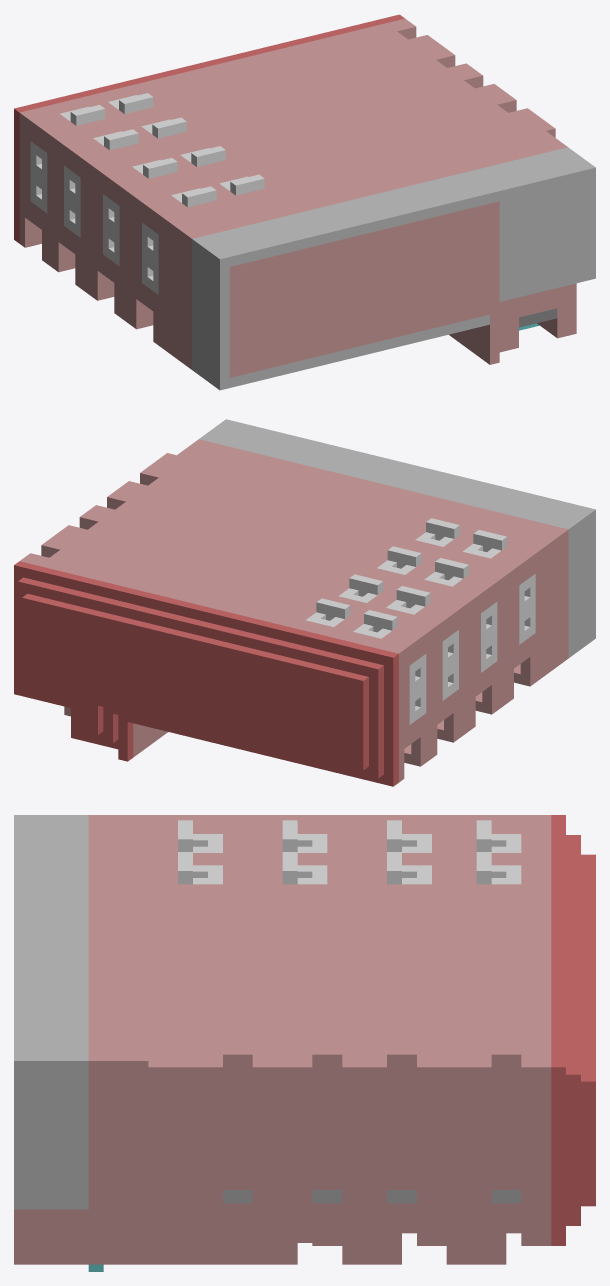
File: yoshida11.fbx
The picture shows the model from 3 angles, top to bottom: view 1: azimuth 30°, elevation 25°; view 2: azimuth 150°, elevation 25°; view 3: azimuth 270°, elevation 25°; orthographic projection. The views are drawn at different scales.
Parts seen in each view (by area): view 1: Default; view 2: Default; view 3: Default.
Part boxes in pixels (<box>): Default: <box>14,14,595,390</box>; Default: <box>14,419,595,786</box>; Default: <box>14,815,595,1271</box>.
Bounding box in the file's own units: 40 × 18 × 39.
1 material, 1 textured.
